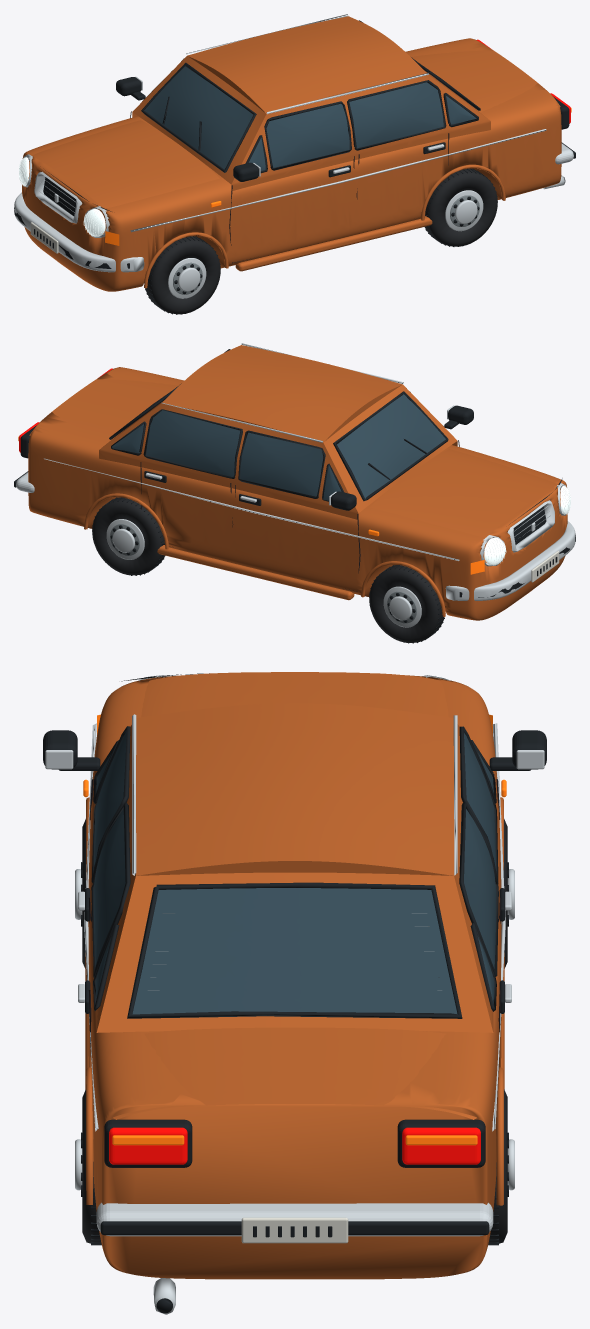
File: moskvich.glb
3 renders of one model, top to bottom at view 1: azimuth 30°, elevation 25°; view 2: azimuth 150°, elevation 25°; view 3: azimuth 270°, elevation 25°, orthographic. The views are drawn at different scales.
Parts seen in each view (by area): view 1: Body_Paint_moskvich, Body_Curved smoked glass.008, Body_Black trim.008, Body_Machined aluminium.008, Wheel_FR_Tyre.008, Wheel_RR_Tyre.008, StockBumpers_Machined aluminium.008, StockSkirts_Paint_moskvich, StockFenders_Paint_moskvich, Wheel_FR_Machined aluminium.008, Wheel_RR_Machined aluminium.008, Body_Prismatic headlight glass.008; view 2: Body_Paint_moskvich, Body_Curved smoked glass.008, Body_Black trim.008, Wheel_FL_Tyre.008, Wheel_RL_Tyre.008, Body_Machined aluminium.008, StockBumpers_Machined aluminium.008, StockSkirts_Paint_moskvich, StockFenders_Paint_moskvich, Wheel_FL_Machined aluminium.008, Wheel_RL_Machined aluminium.008, Body_Prismatic headlight glass.008; view 3: Body_Paint_moskvich, Body_Curved smoked glass.008, Body_Black trim.008, StockBumpers_Machined aluminium.008, Body_Machined aluminium.008, Body_Red lens.008, StockBumpers_Black trim.008, Body_Numberplate.008, StockFenders_Paint_moskvich, Body_Amber lens.008, Wheel_RR_Tyre.008, Wheel_RL_Tyre.008.
Boxes of the visible parts, left/top/right/bottom form: Body_Paint_moskvich: left=22, top=16, right=561, bottom=291; Body_Curved smoked glass.008: left=144, top=66, right=476, bottom=170; Body_Black trim.008: left=34, top=20, right=569, bottom=248; Body_Machined aluminium.008: left=23, top=14, right=564, bottom=237; Wheel_FR_Tyre.008: left=145, top=236, right=220, bottom=314; Wheel_RR_Tyre.008: left=425, top=168, right=497, bottom=246; StockBumpers_Machined aluminium.008: left=14, top=143, right=573, bottom=272; StockSkirts_Paint_moskvich: left=235, top=216, right=432, bottom=271; StockFenders_Paint_moskvich: left=144, top=164, right=505, bottom=288; Wheel_FR_Machined aluminium.008: left=168, top=258, right=206, bottom=298; Wheel_RR_Machined aluminium.008: left=445, top=190, right=483, bottom=231; Body_Prismatic headlight glass.008: left=19, top=157, right=105, bottom=236; Body_Paint_moskvich: left=28, top=345, right=567, bottom=620; Body_Curved smoked glass.008: left=112, top=394, right=445, bottom=500; Body_Black trim.008: left=20, top=349, right=562, bottom=576; Wheel_FL_Tyre.008: left=369, top=565, right=444, bottom=642; Wheel_RL_Tyre.008: left=92, top=497, right=164, bottom=575; Body_Machined aluminium.008: left=44, top=343, right=566, bottom=566; StockBumpers_Machined aluminium.008: left=16, top=472, right=575, bottom=600; StockSkirts_Paint_moskvich: left=157, top=545, right=354, bottom=600; StockFenders_Paint_moskvich: left=84, top=493, right=445, bottom=616; Wheel_FL_Machined aluminium.008: left=383, top=586, right=421, bottom=627; Wheel_RL_Machined aluminium.008: left=106, top=519, right=144, bottom=559; Body_Prismatic headlight glass.008: left=484, top=486, right=570, bottom=565; Body_Paint_moskvich: left=88, top=672, right=501, bottom=1279; Body_Curved smoked glass.008: left=93, top=731, right=496, bottom=1014; Body_Black trim.008: left=43, top=673, right=546, bottom=1313; StockBumpers_Machined aluminium.008: left=96, top=1202, right=493, bottom=1236; Body_Machined aluminium.008: left=45, top=675, right=544, bottom=1314; Body_Red lens.008: left=109, top=1127, right=480, bottom=1164; StockBumpers_Black trim.008: left=100, top=1221, right=489, bottom=1235; Body_Numberplate.008: left=241, top=1217, right=348, bottom=1243; StockFenders_Paint_moskvich: left=86, top=797, right=503, bottom=1205; Body_Amber lens.008: left=83, top=714, right=506, bottom=1145; Wheel_RR_Tyre.008: left=82, top=1089, right=101, bottom=1244; Wheel_RL_Tyre.008: left=488, top=1089, right=507, bottom=1244.
Size of the model in its own units: 4.23 by 1.48 by 1.89.
